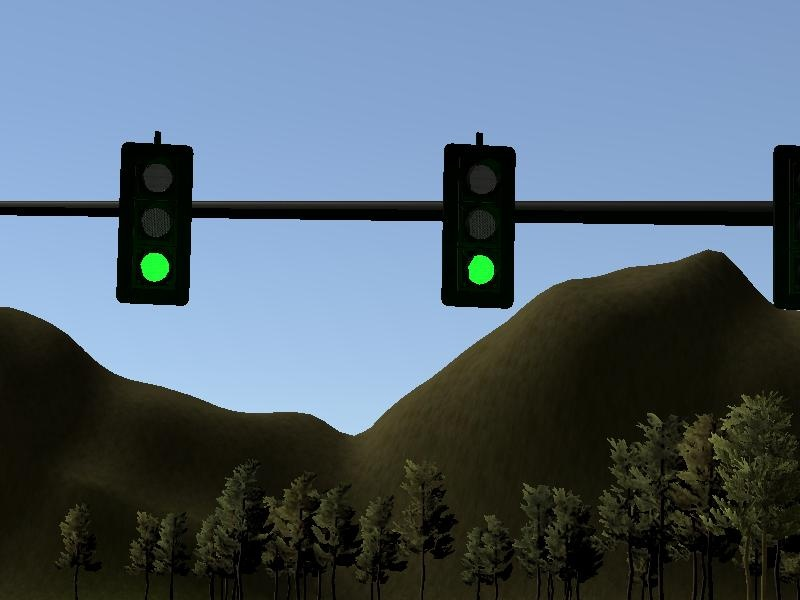GREEN: (118, 142, 193, 305), (442, 144, 517, 307)
